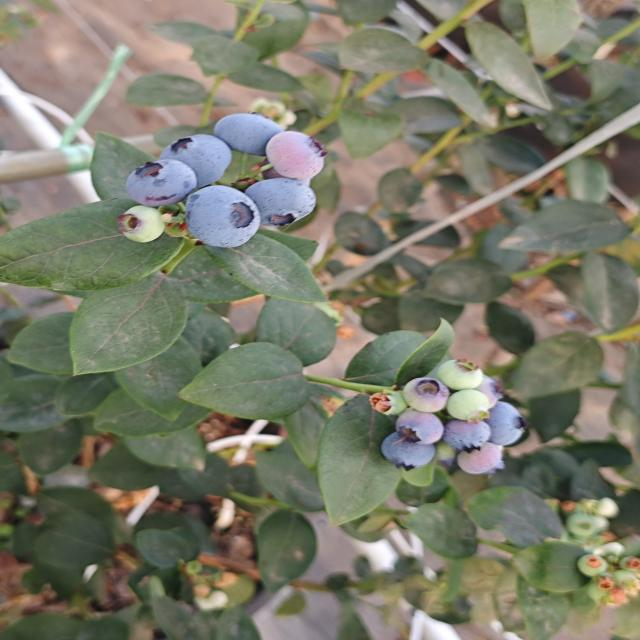ripe: (176, 183, 269, 253), (156, 130, 236, 184), (244, 175, 320, 228), (212, 109, 293, 157), (120, 158, 196, 208), (374, 431, 442, 472), (483, 398, 532, 449), (394, 405, 450, 446), (441, 413, 497, 452)
